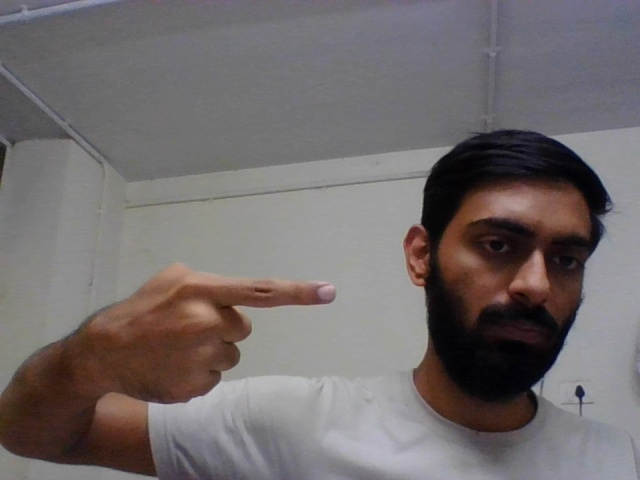G: (89, 258, 340, 408)
